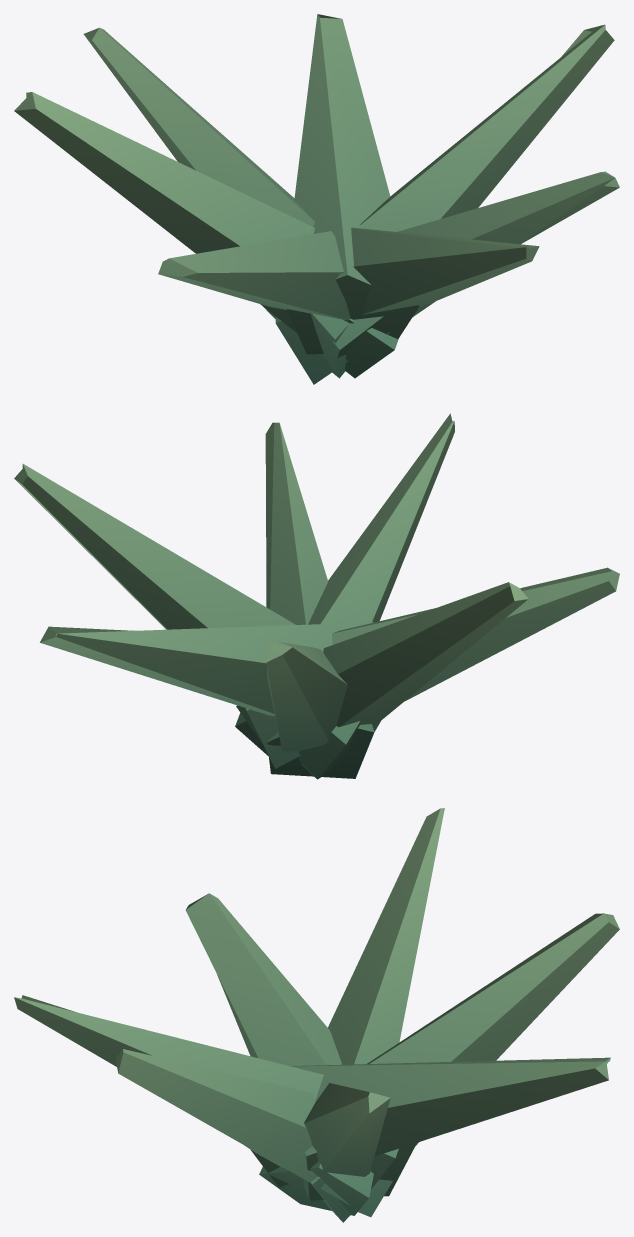
Rendered from understory_fern.glb.
3 views of the same model, one above another, from view 1: azimuth 30°, elevation 25°; view 2: azimuth 150°, elevation 25°; view 3: azimuth 270°, elevation 25° (orthographic). The views are drawn at different scales.
Parts seen in each view (by area): view 1: understory_fern; view 2: understory_fern; view 3: understory_fern.
Boxes of the visible parts, x1=… form: understory_fern: x1=14, y1=14, x2=619, y2=384; understory_fern: x1=14, y1=413, x2=619, y2=779; understory_fern: x1=14, y1=808, x2=619, y2=1222.
Size of the model in its own units: 1.46 by 0.7442 by 1.42.
